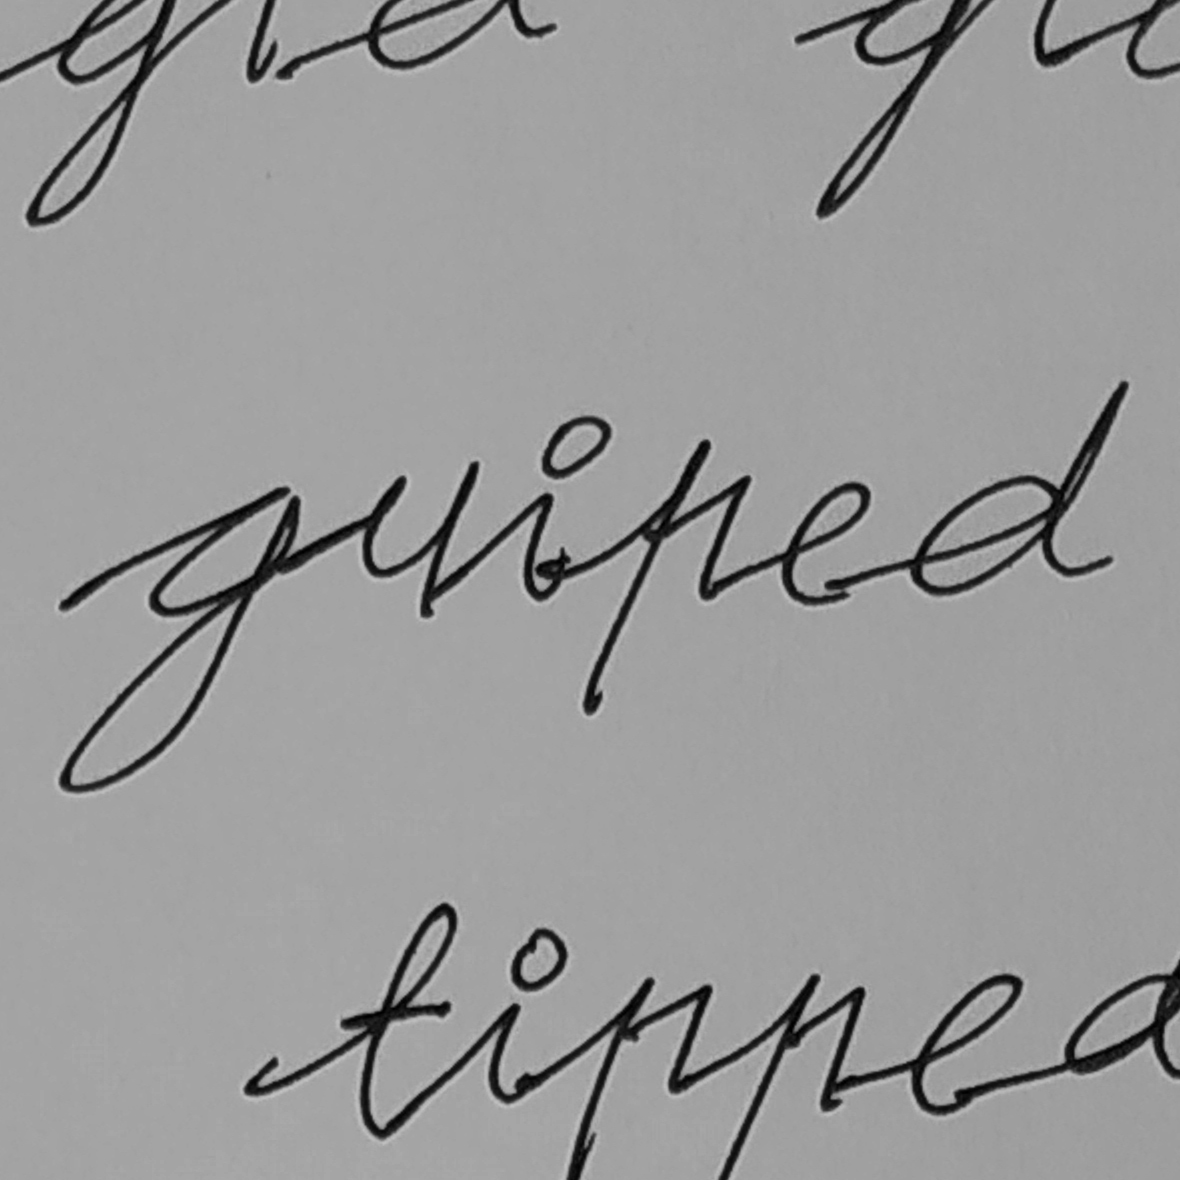d: (902, 377, 1134, 607)
e: (774, 473, 877, 619)
g: (51, 479, 303, 799)
i: (513, 410, 617, 605)
p: (578, 431, 757, 723)
r: (352, 455, 482, 619)
